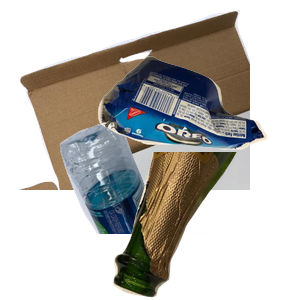cardboard: (16, 10, 256, 190)
glass: (111, 152, 300, 300)
plastic: (57, 120, 284, 300)
trash: (95, 53, 300, 195)
